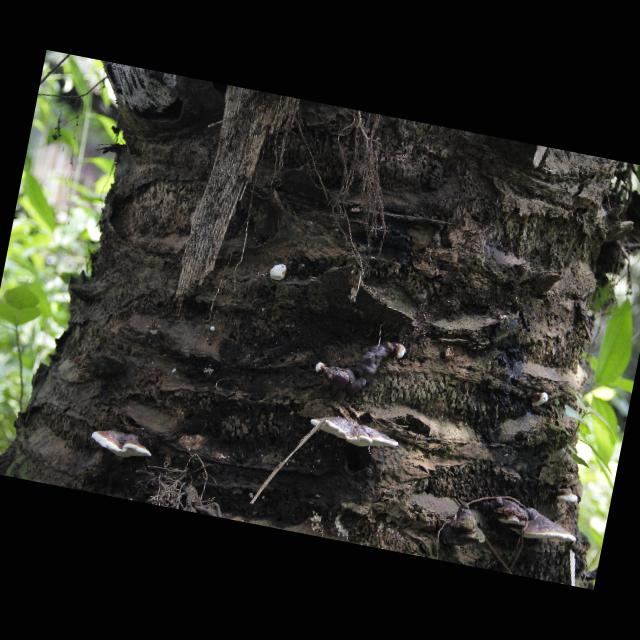ganoderma: (321, 332, 396, 405), (307, 411, 403, 456), (507, 505, 582, 550), (89, 426, 157, 465), (480, 497, 533, 530), (549, 487, 582, 508)
primordium: (527, 391, 551, 412), (270, 263, 290, 284), (393, 343, 408, 362), (313, 362, 326, 378), (209, 325, 218, 334)
